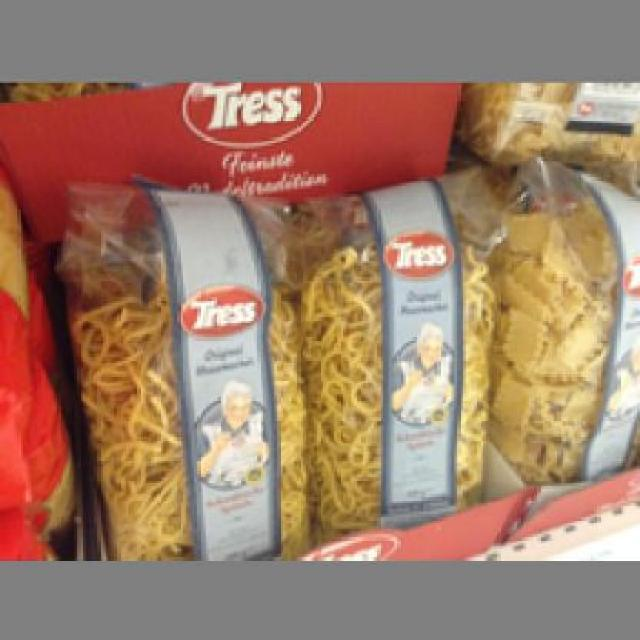Pasta: (52, 180, 308, 554), (297, 177, 497, 534), (482, 154, 638, 480)
